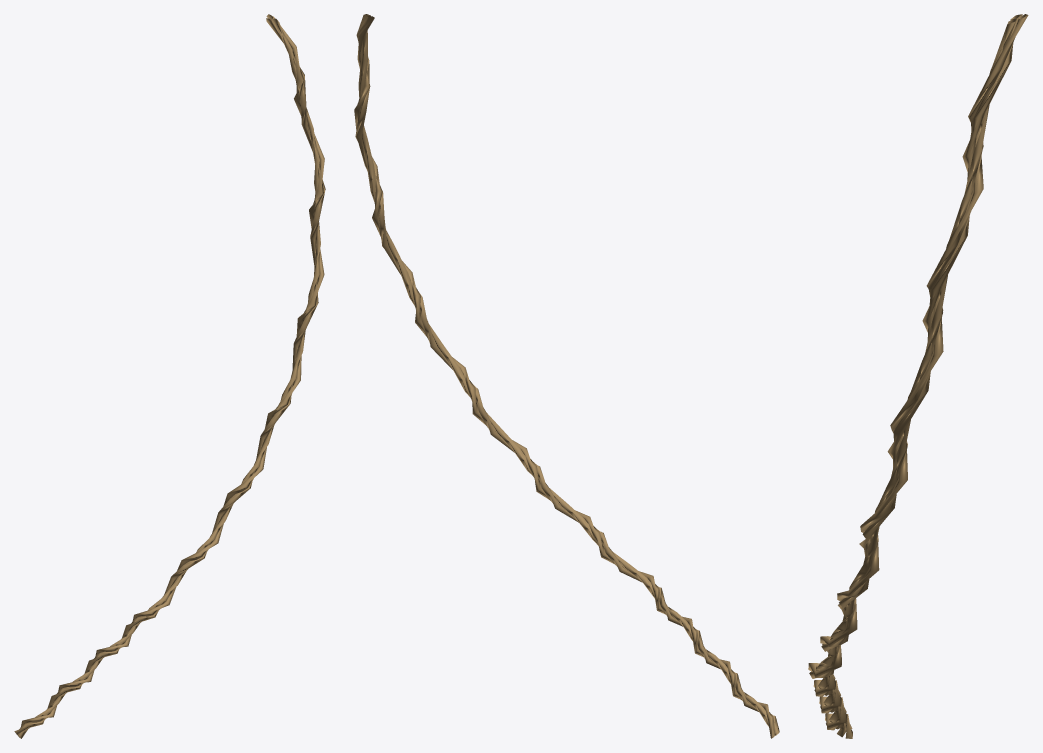
File: braided_cord.glb
The picture shows the model from 3 angles, left to right: view 1: azimuth 30°, elevation 25°; view 2: azimuth 150°, elevation 25°; view 3: azimuth 270°, elevation 25°; orthographic projection. The views are drawn at different scales.
Parts seen in each view (by area): view 1: Circle.002; view 2: Circle.002; view 3: Circle.002.
Boxes of the visible parts, <box> form: Circle.002: <box>14,14,325,738</box>; Circle.002: <box>354,14,779,738</box>; Circle.002: <box>808,14,1028,738</box>.
Bounding box in the file's own units: 0.592 × 1 × 0.209.
